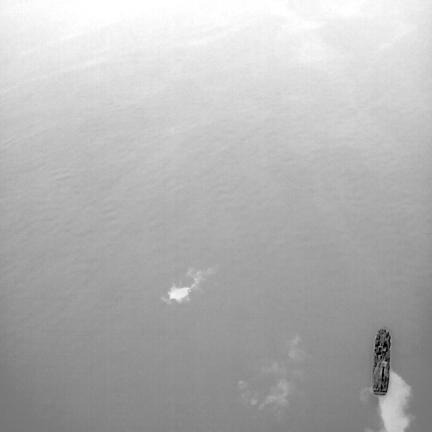flukeprints: (168, 268, 206, 302)
